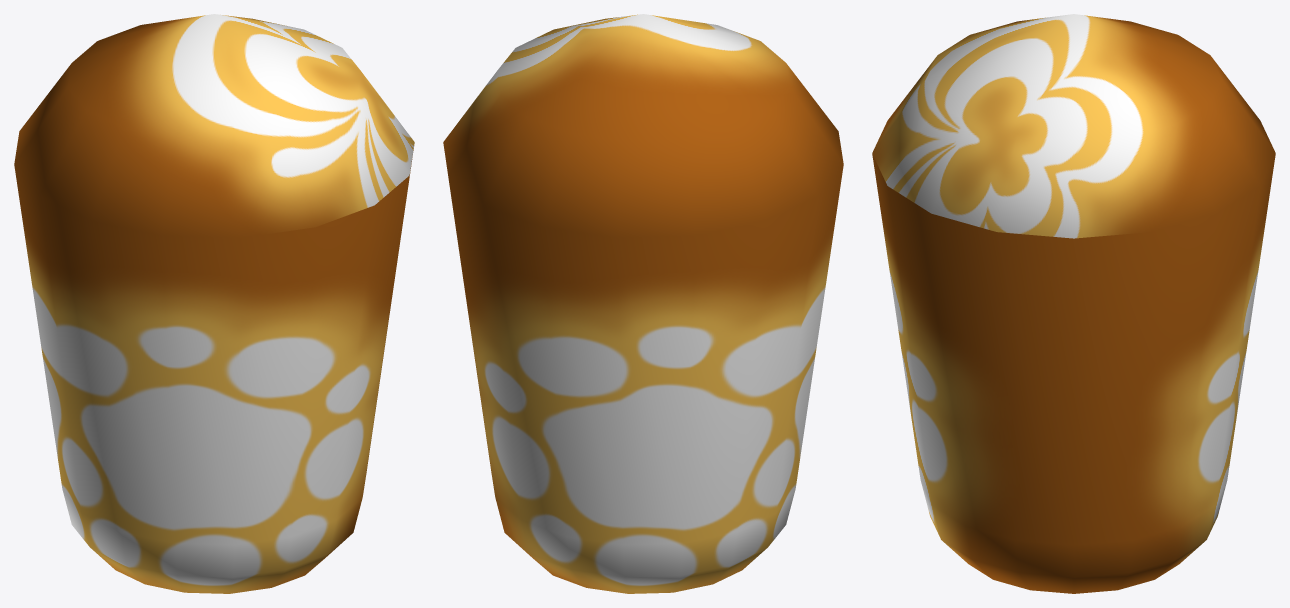
The model's file is GlassMug_Small_Liquid_02.fbx.
3 renders of one model, left to right at view 1: azimuth 30°, elevation 25°; view 2: azimuth 150°, elevation 25°; view 3: azimuth 270°, elevation 25°, orthographic.
Parts seen in each view (by area): view 1: GlassMug_Small_Liquid_02; view 2: GlassMug_Small_Liquid_02; view 3: GlassMug_Small_Liquid_02.
Part boxes in pixels (x1,y1,x2,y2): GlassMug_Small_Liquid_02: (14, 14, 414, 593); GlassMug_Small_Liquid_02: (443, 14, 843, 593); GlassMug_Small_Liquid_02: (872, 14, 1275, 593).
Size of the model in its own units: 29.65 by 44.45 by 29.65.
